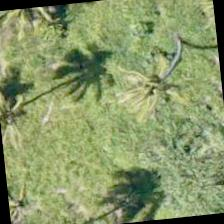Kelapa_Sawit: (100, 50, 200, 148)
